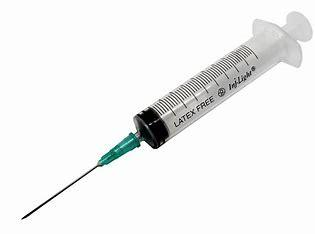Syringe: (20, 10, 314, 234)
